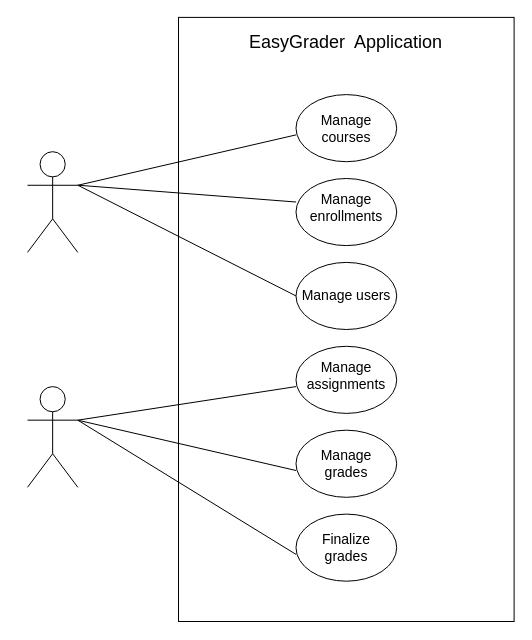
Some shapes in this 532 by 640 pixel diagram are drawn without their labels. Here are the shapes that lost their labels. From the top down, the centre of each, then its label:
pixel 52 201: Administrator
pixel 52 436: Instructor
